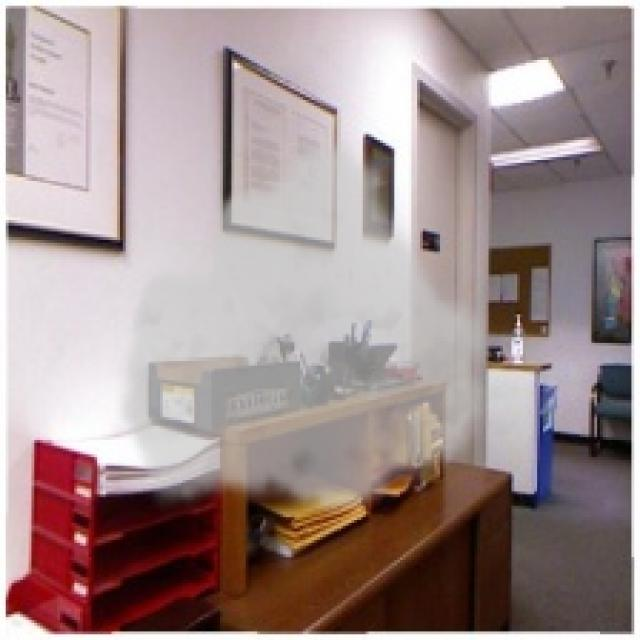smoke: (114, 132, 500, 517)
